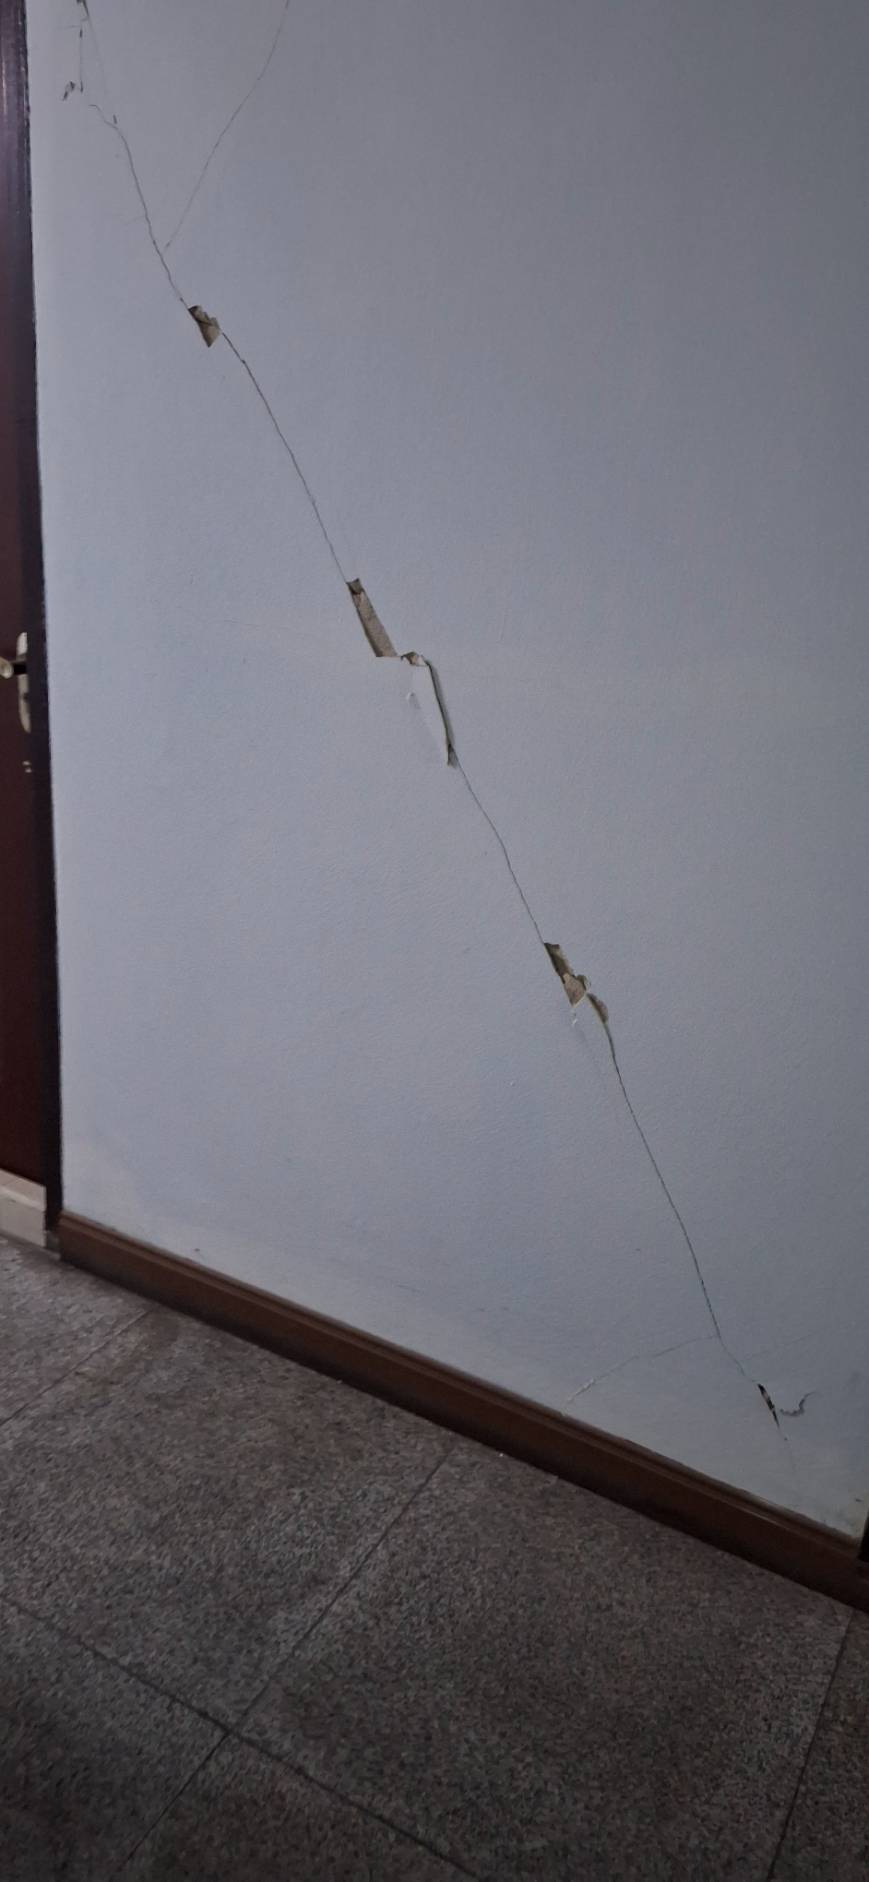Medium: (198, 299, 744, 1193)
